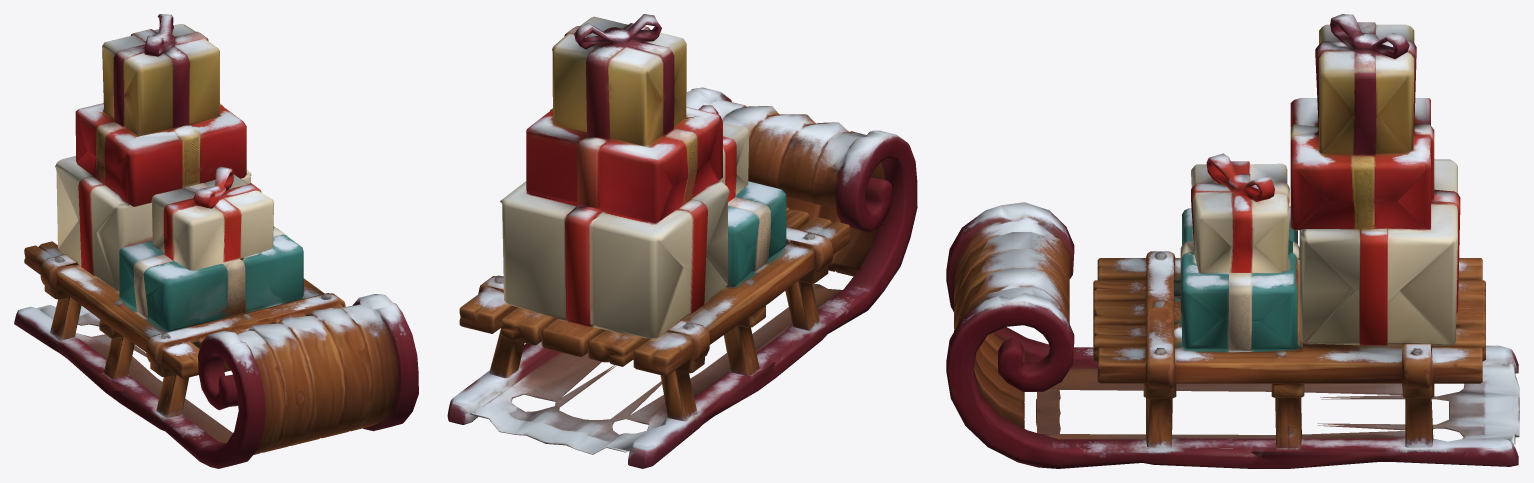
The model's file is model_url.glb.
3 views of the same model, side by side, from view 1: azimuth 30°, elevation 25°; view 2: azimuth 150°, elevation 25°; view 3: azimuth 270°, elevation 25° (orthographic). The views are drawn at different scales.
Parts seen in each view (by area): view 1: tripo_node_d4826e41-63de-4134-856b-f6c23d5438e3; view 2: tripo_node_d4826e41-63de-4134-856b-f6c23d5438e3; view 3: tripo_node_d4826e41-63de-4134-856b-f6c23d5438e3.
Boxes of the visible parts, bbox=[...] form: tripo_node_d4826e41-63de-4134-856b-f6c23d5438e3: bbox=[14, 14, 418, 468]; tripo_node_d4826e41-63de-4134-856b-f6c23d5438e3: bbox=[447, 14, 917, 468]; tripo_node_d4826e41-63de-4134-856b-f6c23d5438e3: bbox=[946, 14, 1519, 468].
Size of the model in its own units: 0.4716 by 0.7534 by 1.
1 material, 1 textured.
